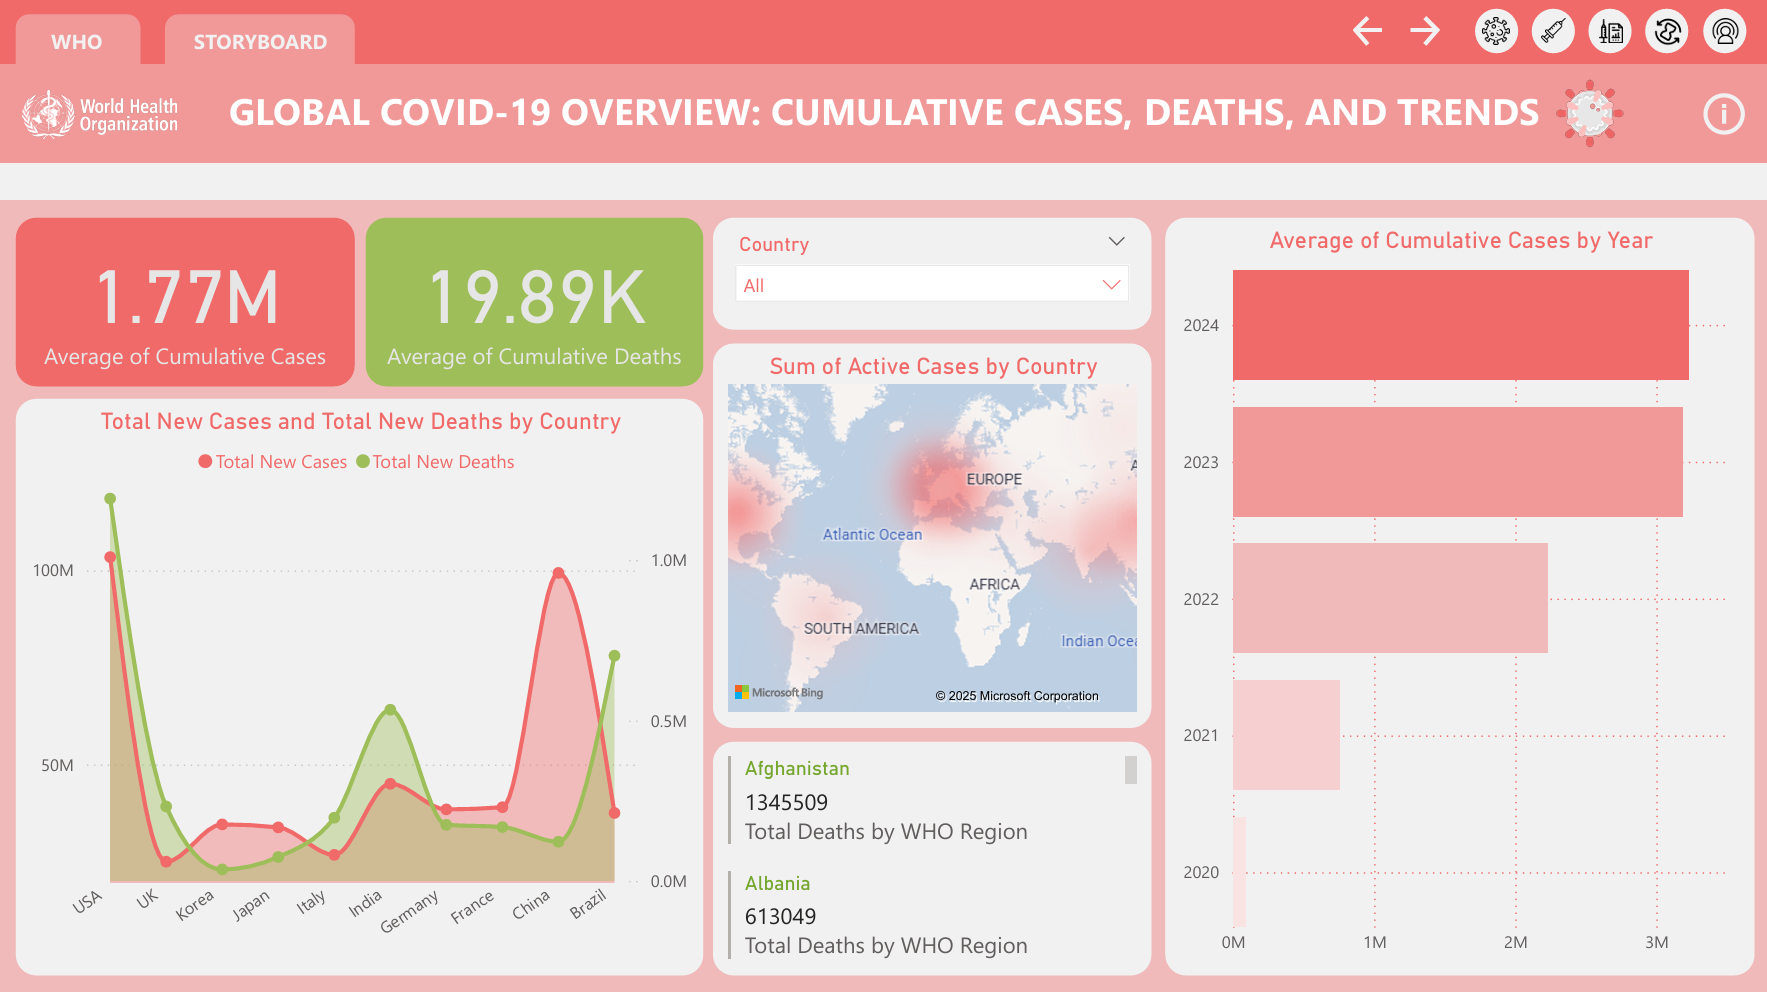

The page's visual inventory and layout, read from the dashboard file:
{"tool":"powerbi","page":{"name":"GLOBAL COVID-19 OVERVIEW","canvas":[1280,720],"ordinal":1},"visuals":[{"type":"shape","box":[0,0,1280.4,47],"z":0},{"type":"shape","box":[0,47,1280,72.1],"z":1000},{"type":"map","fields":{"Size":["Sum(WHO-COVID-19-global-data.Active Cases)"],"Category":["WHO-COVID-19-global-data.Country"]},"box":[516.4,249.1,316.4,278.2],"z":2000},{"type":"lineChart","fields":{"Y":["WHO-COVID-19-global-data.Total New Cases"],"Category":["WHO-COVID-19-global-data.Country"],"Y2":["WHO-COVID-19-global-data.Total New Deaths"]},"box":[12,289.2,497.4,416.3],"z":3000},{"type":"barChart","title":"Average of Cumulative Cases by Year","fields":{"Category":["WHO-COVID-19-global-data.Date_reported.Variation.Date Hierarchy.Year","WHO-COVID-19-global-data.Date_reported.Variation.Date Hierarchy.Month"],"Y":["Avg(WHO-COVID-19-global-data.Cumulative_cases)"]},"box":[842.7,158.1,426.3,547.4],"z":4000},{"type":"card","fields":{"Values":["Avg(WHO-COVID-19-global-data.Cumulative_deaths)"]},"box":[264.5,158.2,244.5,121.8],"z":5000},{"type":"card","fields":{"Values":["Avg(WHO-COVID-19-global-data.Cumulative_cases)"]},"box":[11.8,158.2,245.5,121.8],"z":6000},{"type":"slicer","fields":{"Values":["WHO-COVID-19-global-data.Country"]},"box":[516.4,158.2,316.4,80.9],"z":7000},{"type":"multiRowCard","fields":{"Values":["WHO-COVID-19-global-data.Country","WHO-COVID-19-global-data.Total Deaths by WHO Region"]},"box":[516.4,537.4,316.2,168.1],"z":8000},{"type":"textbox","box":[155.1,57,969.8,52],"z":9000},{"type":"image","box":[12,57,122.1,52],"z":10000},{"type":"shape","box":[0,119.1,1280,26],"z":11000},{"type":"image","box":[1107.9,47,83.1,72.1],"z":13000},{"type":"actionButton","box":[1227,63,42,40],"z":14000},{"type":"shape","box":[1066.7,7.1,31,31.9],"z":15000},{"type":"shape","box":[1107.9,7.1,31,31.9],"z":16000},{"type":"shape","box":[1149.2,7.1,31,31.9],"z":17000},{"type":"shape","box":[1190.4,7.1,31,31.9],"z":18000},{"type":"shape","box":[1231.6,7.1,31,31.9],"z":19000},{"type":"image","box":[1066.1,7.8,31.7,30],"z":20000},{"type":"image","box":[1107.8,8.3,30,29.1],"z":21000},{"type":"image","box":[1150.9,9.6,27.8,27],"z":22000},{"type":"image","box":[1190.7,7.4,31.5,31.9],"z":23000},{"type":"image","box":[1231.7,7.8,31.7,30.4],"z":24000},{"type":"actionButton","box":[1015.5,8.4,40.9,30],"z":25000,"group":"g1"},{"type":"shape","box":[11.8,10.9,90,39.1],"z":25000},{"type":"actionButton","box":[975.5,8.4,40,30],"z":26000,"group":"g1"},{"type":"textbox","box":[27.3,15.5,58.2,31.8],"z":26000},{"type":"shape","box":[120,10.9,137.3,39.1],"z":27000},{"type":"group","id":"g1","title":"Group 1","box":[975.5,8.4,80.9,30],"z":28000},{"type":"textbox","box":[130,14.5,118.2,31.8],"z":29000}]}

Visuals, with their boxes on the page's 1280x720 design canvas (x1, y1, x2, y2). These are canvas units, not pixel positions in the 1767x992 screenshot, which may show the page scaled, cropped or inside an application window:
shape: bbox=[0, 0, 1280, 47]
shape: bbox=[0, 47, 1280, 119]
map - Sum(WHO-COVID-19-global-data.Active Cases) x WHO-COVID-19-global-data.Country: bbox=[516, 249, 833, 527]
lineChart - WHO-COVID-19-global-data.Total New Cases x WHO-COVID-19-global-data.Country: bbox=[12, 289, 509, 706]
"Average of Cumulative Cases by Year" barChart: bbox=[843, 158, 1269, 706]
card - Avg(WHO-COVID-19-global-data.Cumulative_deaths): bbox=[264, 158, 509, 280]
card - Avg(WHO-COVID-19-global-data.Cumulative_cases): bbox=[12, 158, 257, 280]
slicer - WHO-COVID-19-global-data.Country: bbox=[516, 158, 833, 239]
multiRowCard - WHO-COVID-19-global-data.Country x WHO-COVID-19-global-data.Total Deaths by WHO Region: bbox=[516, 537, 833, 706]
textbox: bbox=[155, 57, 1125, 109]
image: bbox=[12, 57, 134, 109]
shape: bbox=[0, 119, 1280, 145]
image: bbox=[1108, 47, 1191, 119]
actionButton: bbox=[1227, 63, 1269, 103]
shape: bbox=[1067, 7, 1098, 39]
shape: bbox=[1108, 7, 1139, 39]
shape: bbox=[1149, 7, 1180, 39]
shape: bbox=[1190, 7, 1221, 39]
shape: bbox=[1232, 7, 1263, 39]
image: bbox=[1066, 8, 1098, 38]
image: bbox=[1108, 8, 1138, 37]
image: bbox=[1151, 10, 1179, 37]
image: bbox=[1191, 7, 1222, 39]
image: bbox=[1232, 8, 1263, 38]
actionButton: bbox=[1016, 8, 1056, 38]
shape: bbox=[12, 11, 102, 50]
actionButton: bbox=[976, 8, 1016, 38]
textbox: bbox=[27, 16, 86, 47]
shape: bbox=[120, 11, 257, 50]
"Group 1" group: bbox=[976, 8, 1056, 38]
textbox: bbox=[130, 14, 248, 46]
